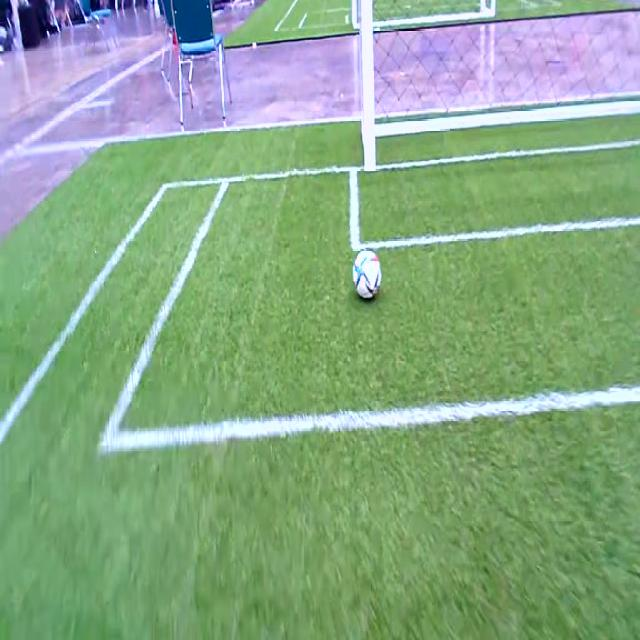ball: (352, 249, 382, 298)
